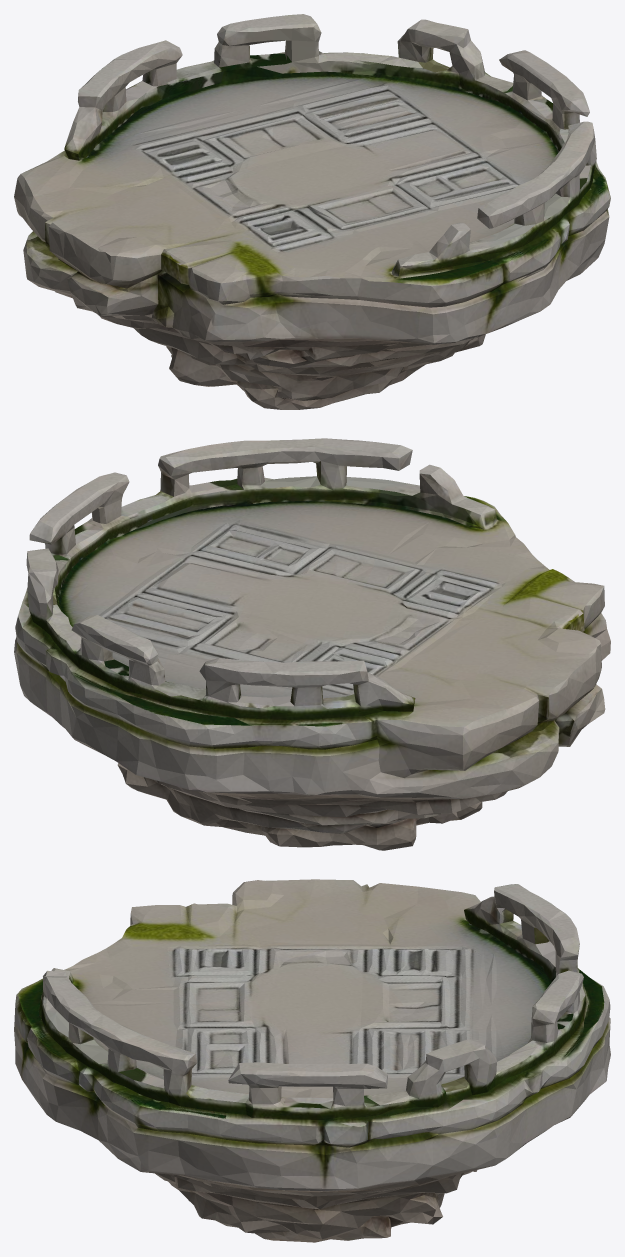
File: citadel_ledge.glb
3 views of the same model, one above another, from view 1: azimuth 30°, elevation 25°; view 2: azimuth 150°, elevation 25°; view 3: azimuth 270°, elevation 25° (orthographic). The views are drawn at different scales.
Parts seen in each view (by area): view 1: tmpvhbhp1lu.ply; view 2: tmpvhbhp1lu.ply; view 3: tmpvhbhp1lu.ply.
Boxes of the visible parts, x1,y1,x2,y2 form: tmpvhbhp1lu.ply: (14, 14, 610, 409); tmpvhbhp1lu.ply: (14, 438, 610, 850); tmpvhbhp1lu.ply: (14, 879, 610, 1242).
Bounding box in the file's own units: 2 × 0.8769 × 1.99.
1 material, 1 textured.
